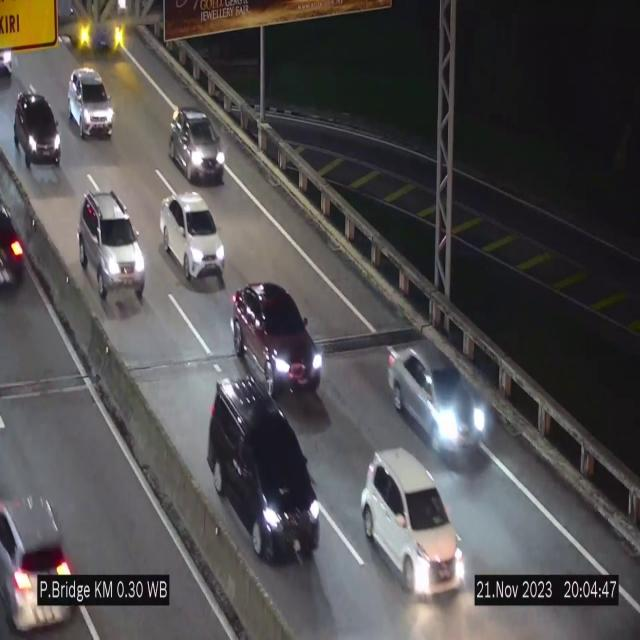Bus: (63, 0, 125, 60)
Car: (206, 365, 321, 613), (361, 448, 465, 594), (390, 338, 490, 455), (0, 496, 78, 640), (232, 282, 324, 396), (78, 191, 144, 301), (160, 193, 226, 283), (0, 188, 38, 312), (169, 106, 225, 184), (13, 86, 61, 174), (68, 68, 114, 138)
